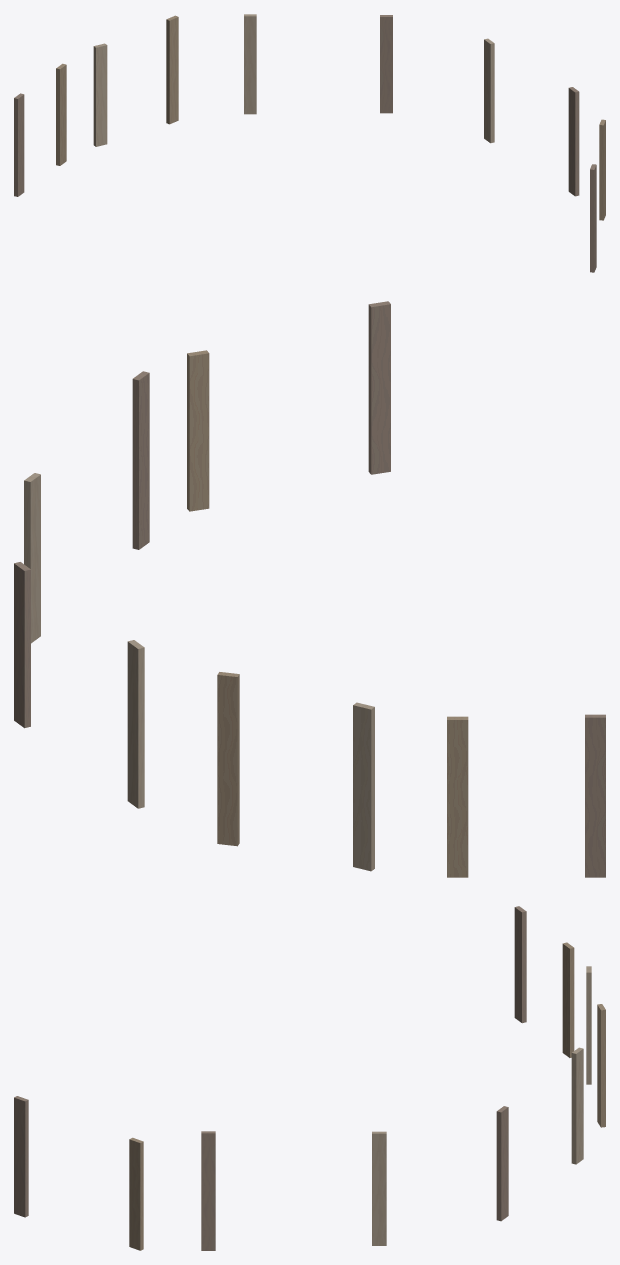
Rendered from kd_stage_135fe0_5_25.glb.
3 views of the same model, one above another, from view 1: azimuth 30°, elevation 25°; view 2: azimuth 150°, elevation 25°; view 3: azimuth 270°, elevation 25° (orthographic). The views are drawn at different scales.
Parts seen in each view (by area): view 1: kd_stage_135fe0_5_25; view 2: kd_stage_135fe0_5_25; view 3: kd_stage_135fe0_5_25.
Part boxes in pixels (left/top/right/bottom): kd_stage_135fe0_5_25: left=14, top=14, right=605, bottom=272; kd_stage_135fe0_5_25: left=14, top=301, right=605, bottom=877; kd_stage_135fe0_5_25: left=14, top=906, right=605, bottom=1250.
Bounding box in the file's own units: 2.14 × 0.4998 × 2.28.
1 material, 1 textured.
